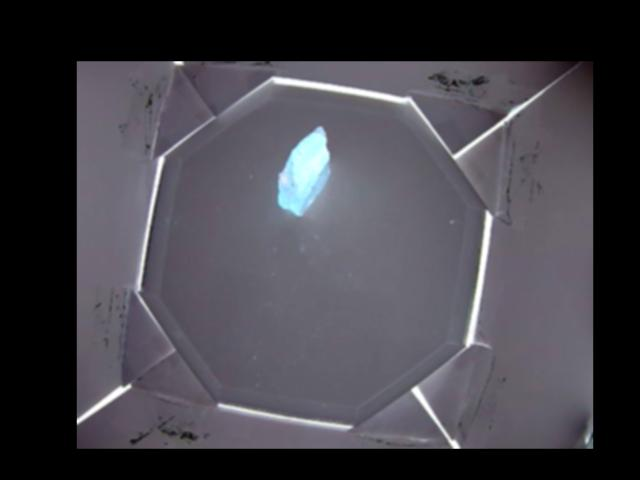Brisk: (278, 126, 328, 215)
